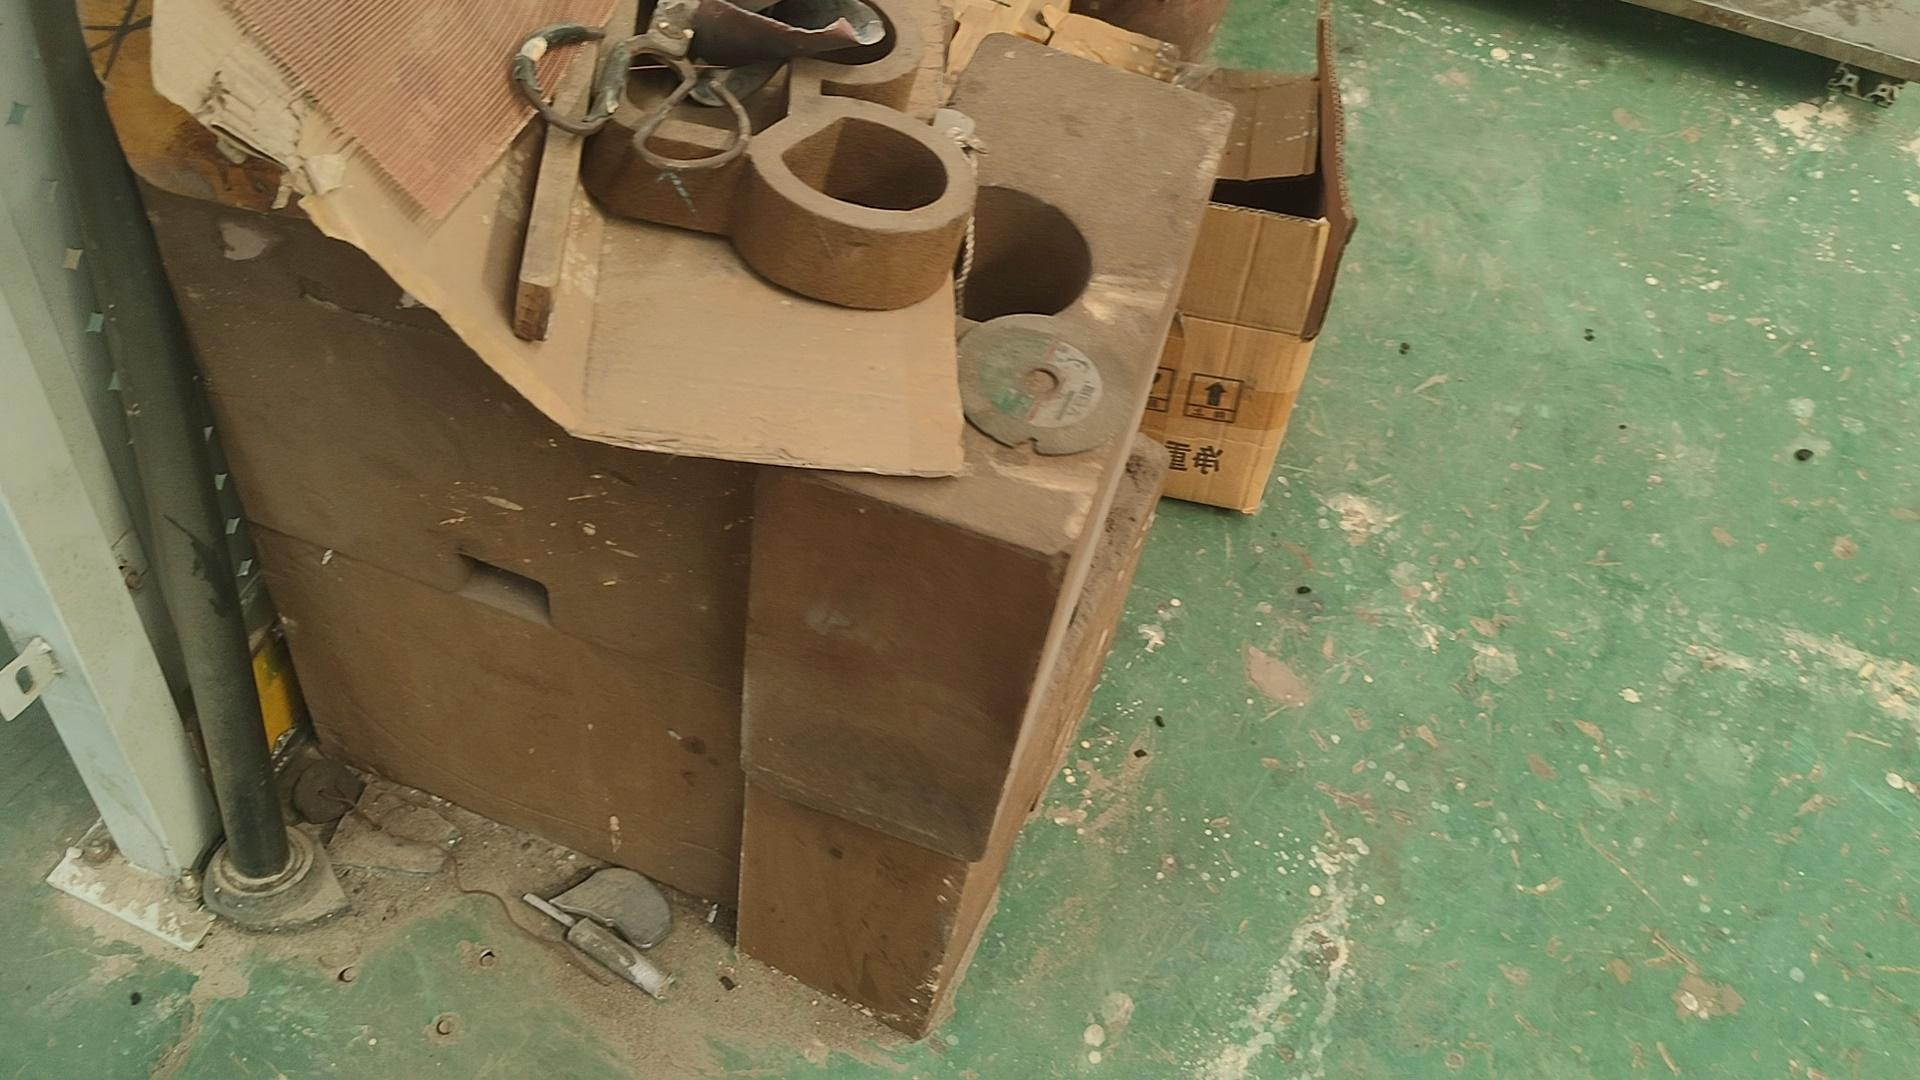pouring hole: (924, 185, 1093, 320)
